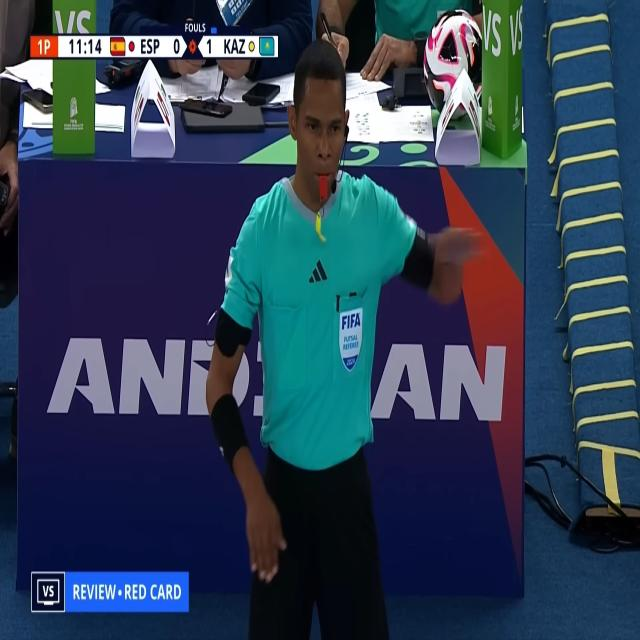Referee: (218, 19, 475, 640)
